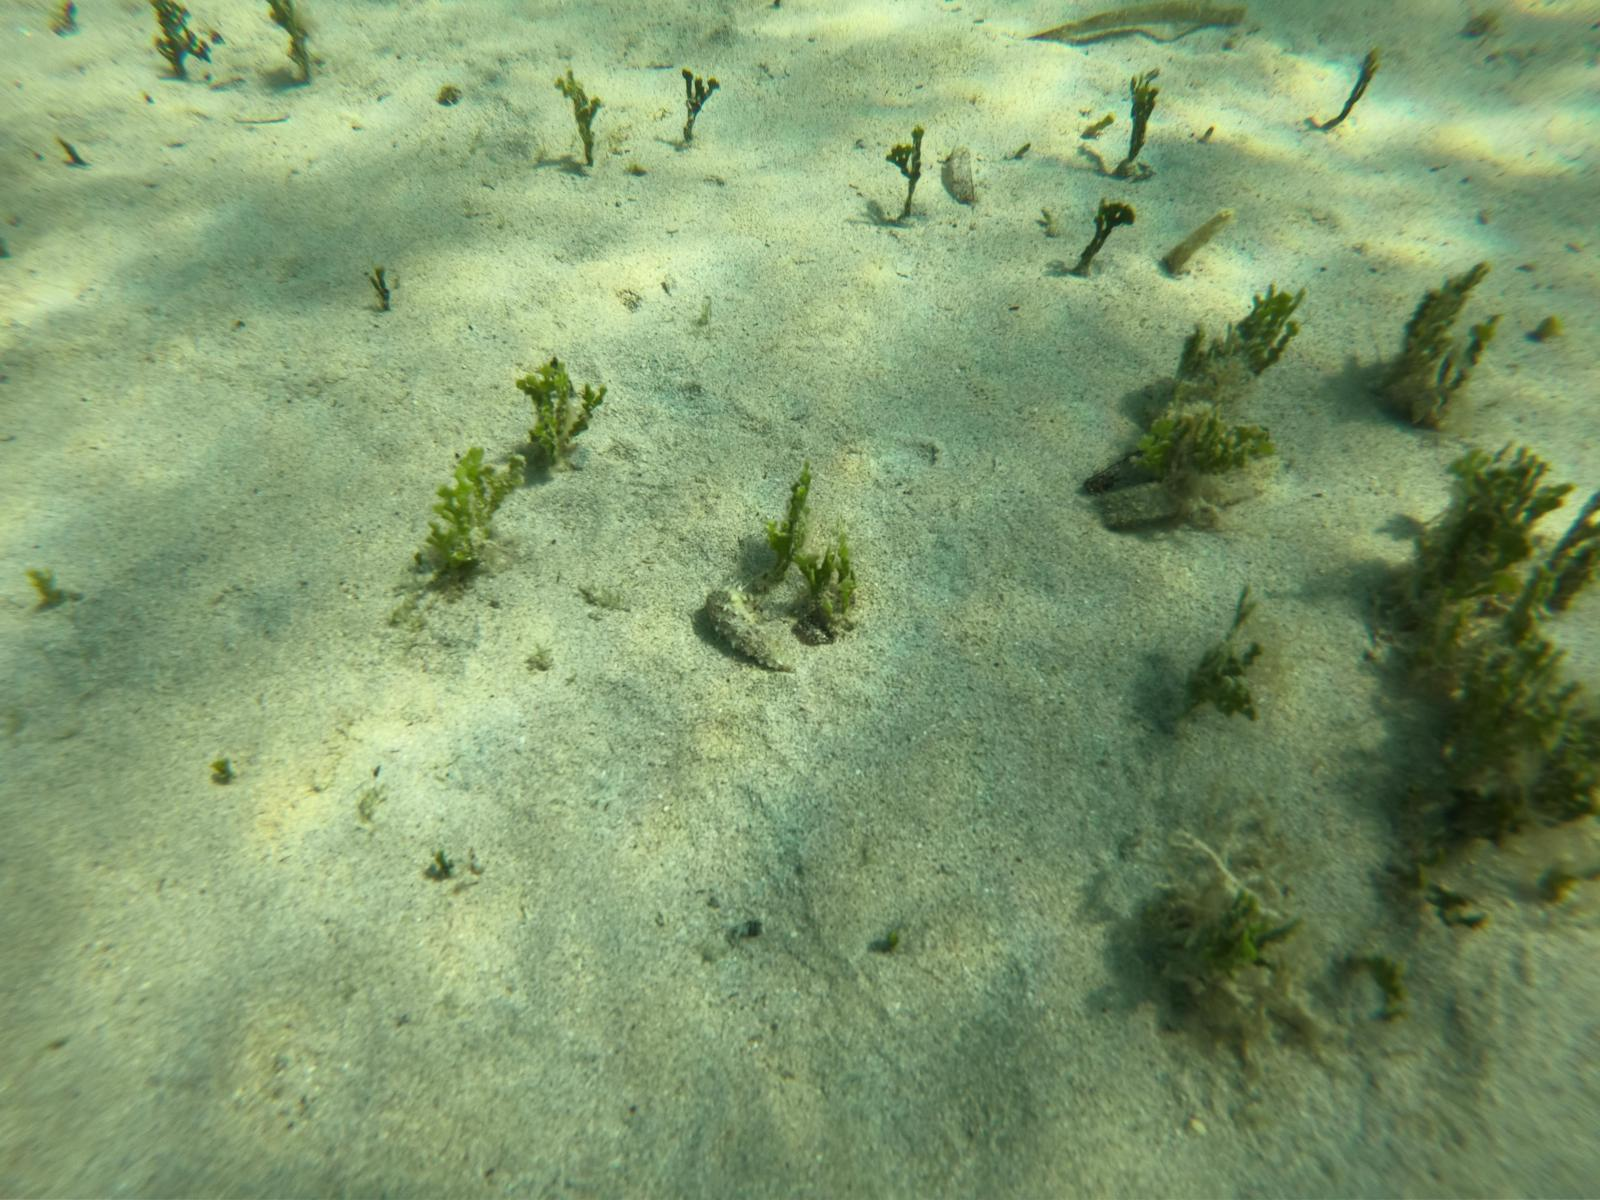halimeda: (1420, 455, 1563, 597), (1390, 260, 1494, 405), (1448, 643, 1569, 768), (416, 447, 524, 576), (1128, 417, 1288, 487), (1178, 899, 1301, 986), (508, 363, 603, 466), (1232, 279, 1308, 368), (1178, 642, 1259, 716), (1076, 192, 1138, 287), (876, 125, 929, 228), (1115, 64, 1162, 176), (769, 465, 819, 568), (554, 68, 603, 168), (808, 543, 858, 639), (1327, 52, 1385, 129), (266, 1, 315, 84), (677, 64, 721, 154), (154, 1, 199, 78), (360, 261, 394, 311)
